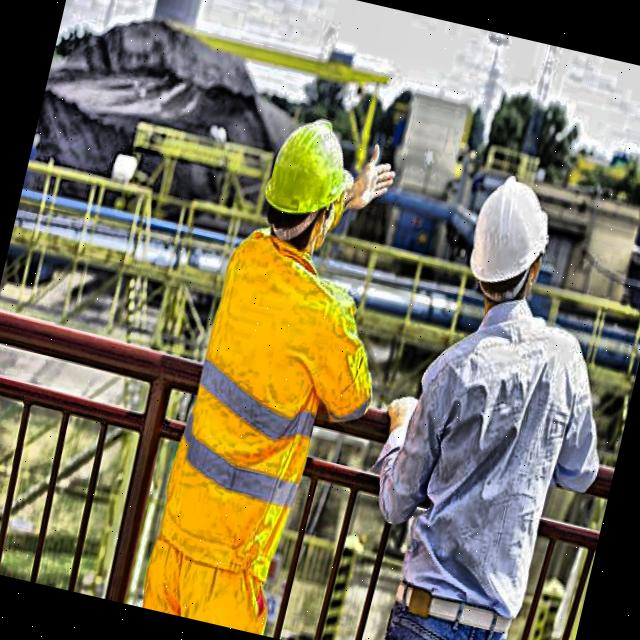helmet: (441, 159, 564, 335), (249, 102, 375, 266)
